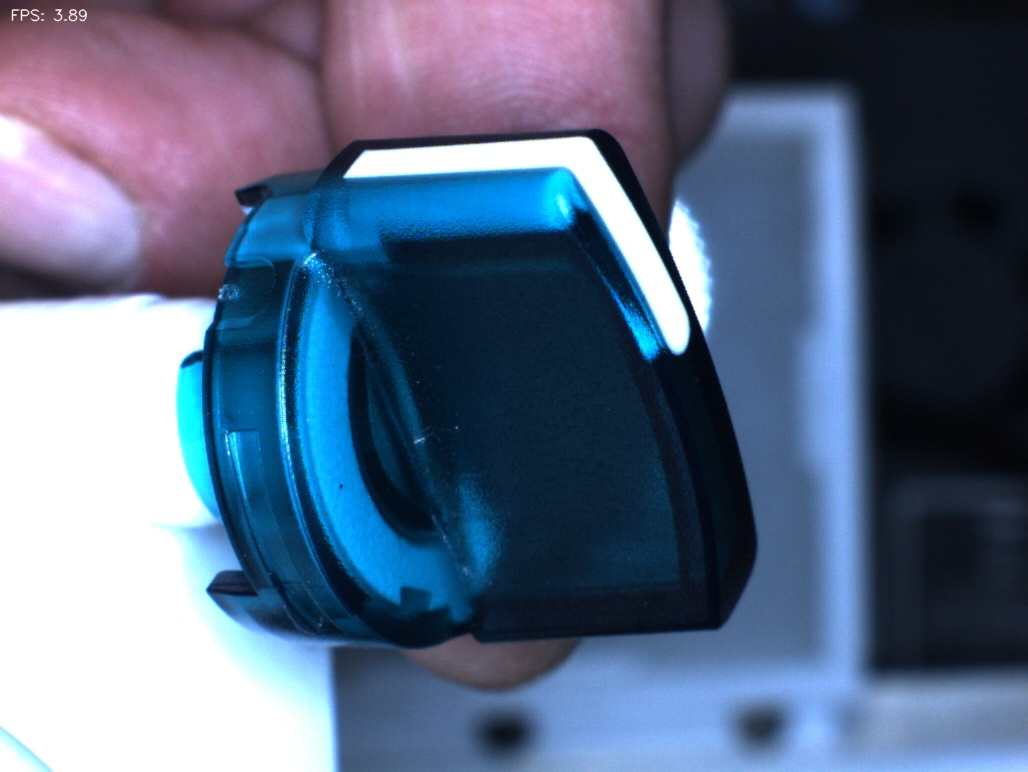PointNoir: (309, 448, 376, 521)
